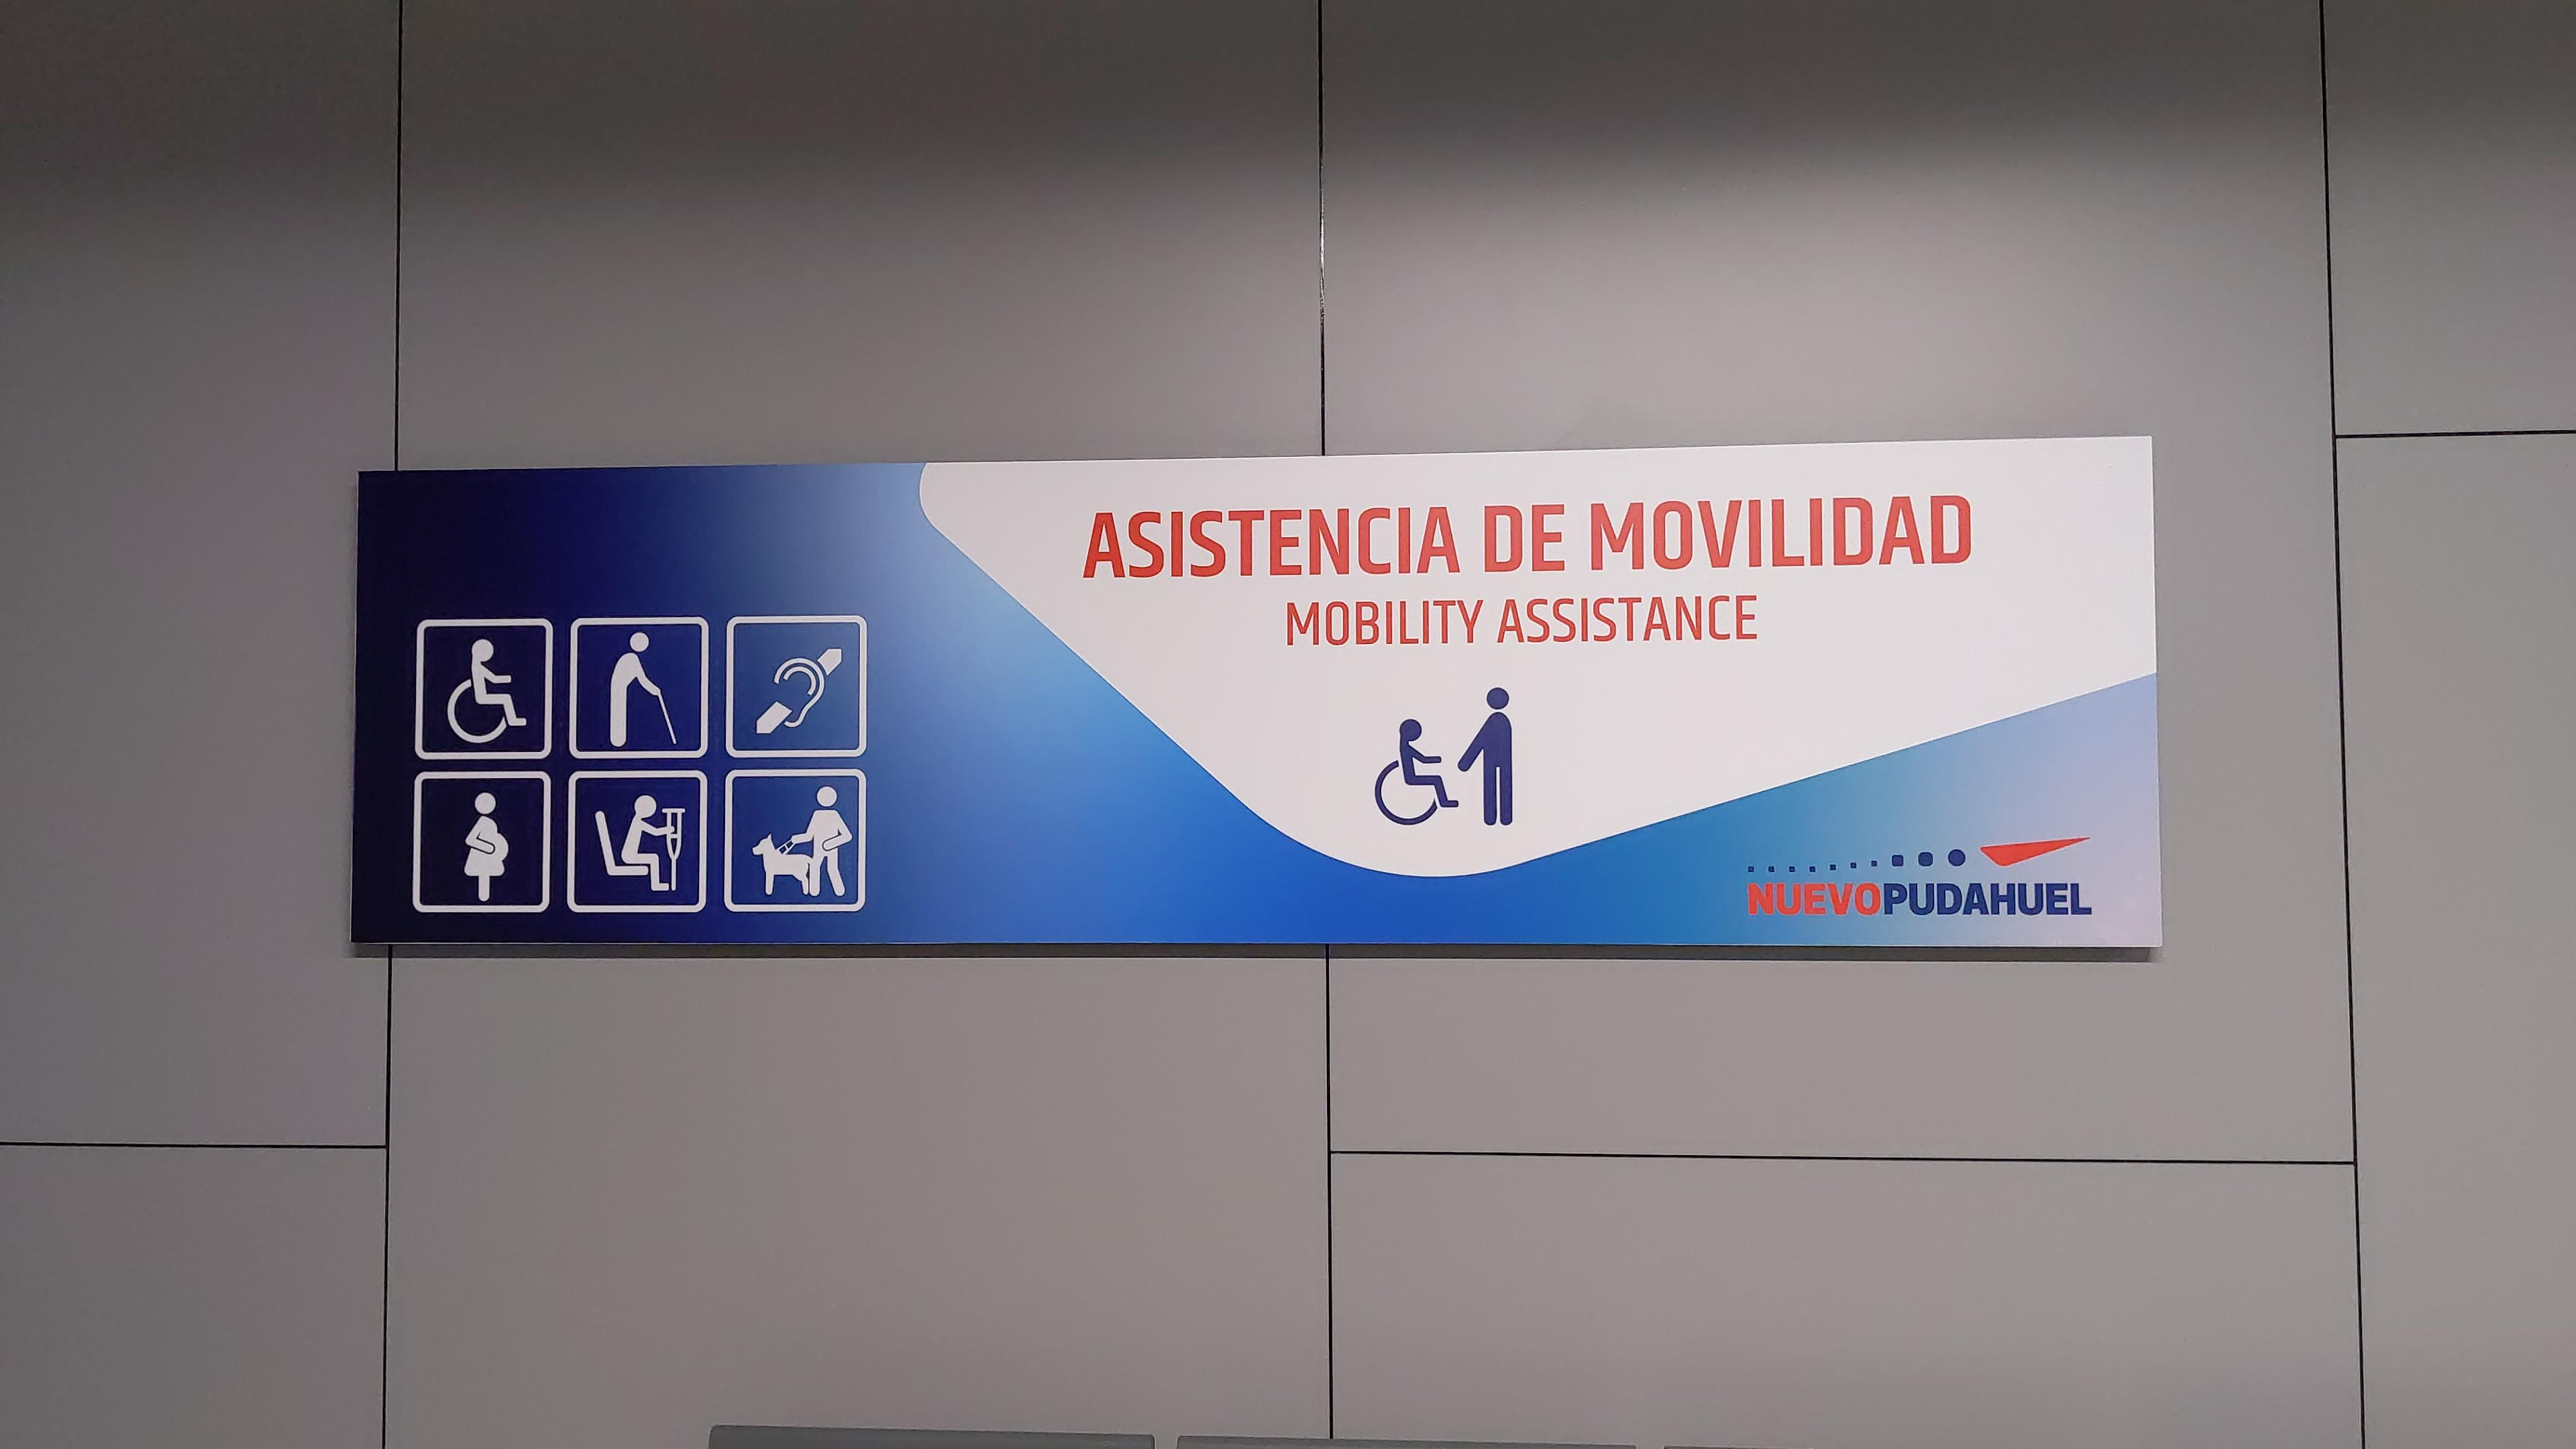handicapped symbol: (1373, 715, 1458, 833), (446, 637, 529, 745)
